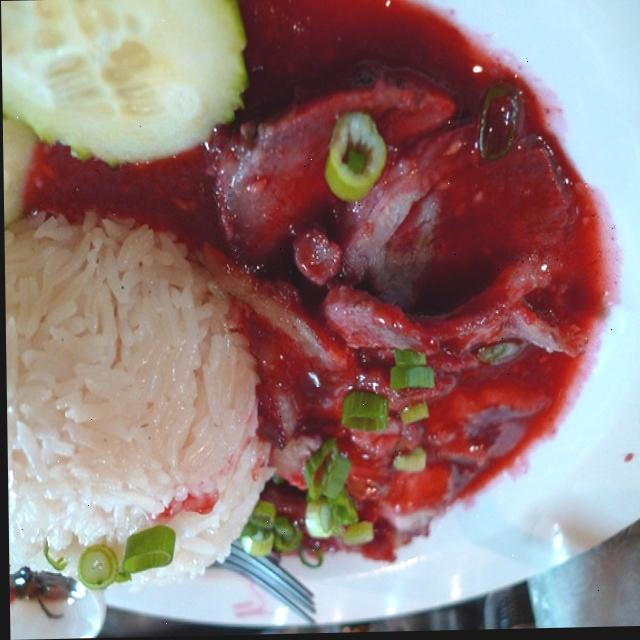猪肉菜式: (23, 7, 596, 589)
